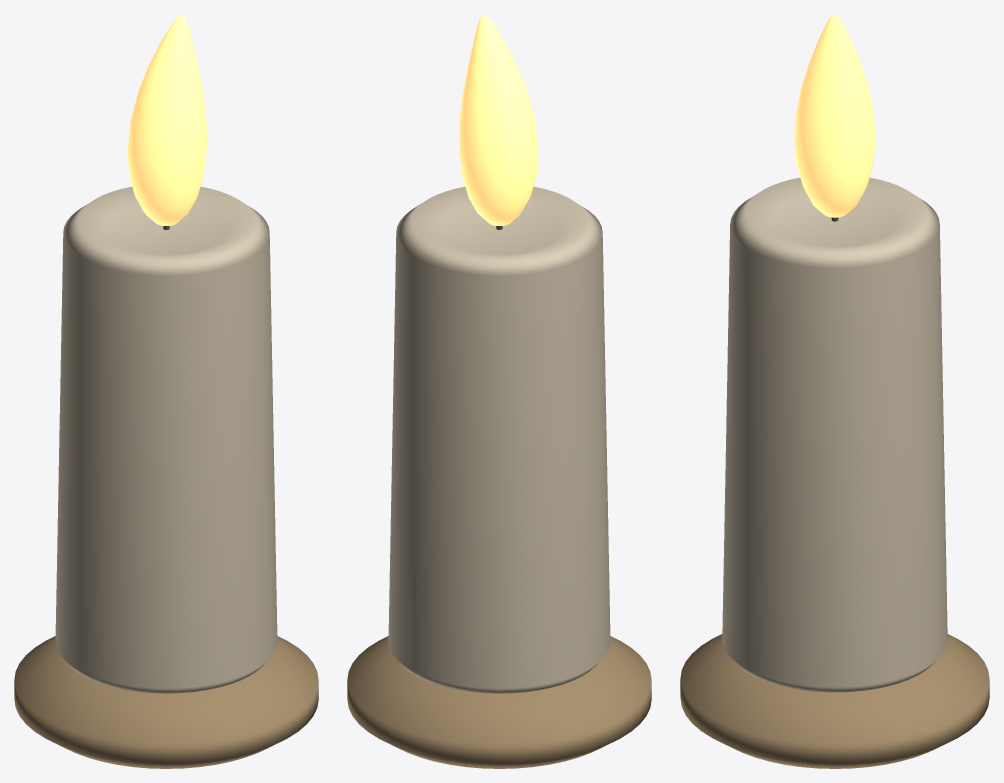
Rendered from candle.glb.
3 renders of one model, left to right at view 1: azimuth 30°, elevation 25°; view 2: azimuth 150°, elevation 25°; view 3: azimuth 270°, elevation 25°, orthographic.
Parts seen in each view (by area): view 1: pillar-candle-wax-body, grounded-candle-dish, pillar-candle-flame; view 2: pillar-candle-wax-body, grounded-candle-dish, pillar-candle-flame; view 3: pillar-candle-wax-body, grounded-candle-dish, pillar-candle-flame.
Part boxes in pixels (x1,y1,x2,y2): pillar-candle-wax-body: [55, 186, 277, 693]; grounded-candle-dish: [14, 636, 318, 768]; pillar-candle-flame: [127, 14, 206, 225]; pillar-candle-wax-body: [388, 186, 610, 693]; grounded-candle-dish: [347, 636, 651, 768]; pillar-candle-flame: [459, 14, 538, 225]; pillar-candle-wax-body: [722, 177, 947, 692]; grounded-candle-dish: [680, 634, 989, 768]; pillar-candle-flame: [794, 14, 875, 217].
Bounding box in the file's own units: 0.28 × 0.7071 × 0.28.
